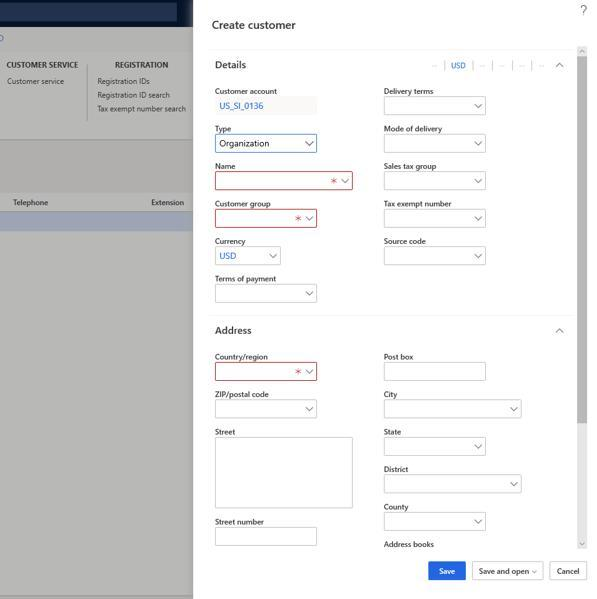button: (430, 562, 468, 582), (551, 562, 587, 582)
dropdown: (386, 400, 524, 421), (385, 474, 522, 494), (216, 172, 355, 191), (386, 134, 486, 156), (384, 247, 487, 268), (386, 171, 485, 192), (385, 437, 486, 457), (216, 210, 318, 229), (216, 363, 317, 382), (385, 97, 485, 116), (218, 399, 318, 418), (216, 136, 318, 154), (386, 209, 486, 227), (387, 513, 486, 531), (216, 286, 318, 303), (215, 247, 281, 266), (474, 563, 544, 580)
icon: (554, 60, 568, 71), (556, 326, 566, 338)
input: (385, 362, 485, 384), (217, 528, 317, 546)
label: (211, 18, 302, 36), (383, 123, 446, 136), (215, 274, 281, 286), (215, 387, 273, 400), (383, 200, 454, 210), (215, 198, 274, 210), (384, 86, 436, 99), (215, 516, 267, 529), (385, 161, 441, 173), (214, 88, 285, 97), (215, 353, 269, 364), (215, 59, 256, 72), (214, 326, 255, 338), (382, 237, 430, 247), (213, 238, 249, 248), (382, 501, 412, 513), (383, 352, 421, 361), (215, 159, 242, 171), (384, 463, 410, 475), (382, 426, 410, 437), (213, 427, 240, 438), (213, 125, 235, 134), (383, 391, 400, 402)
